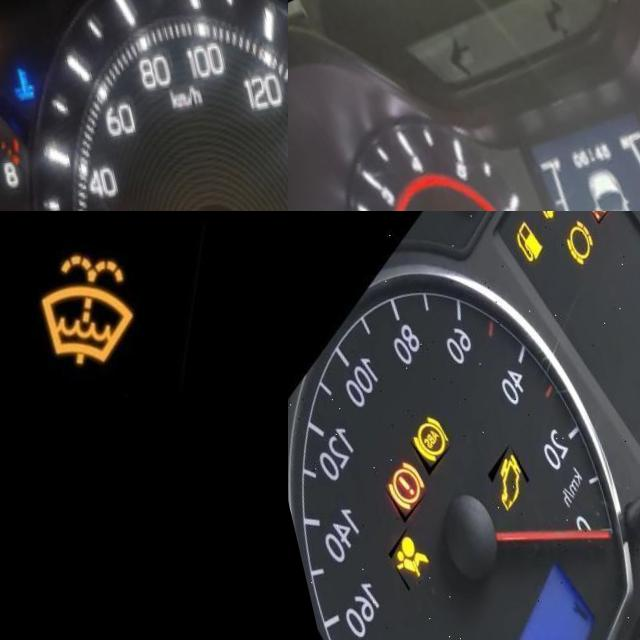Engine cooling system: (0, 66, 34, 116)
Washer Fluid: (21, 261, 131, 391)
